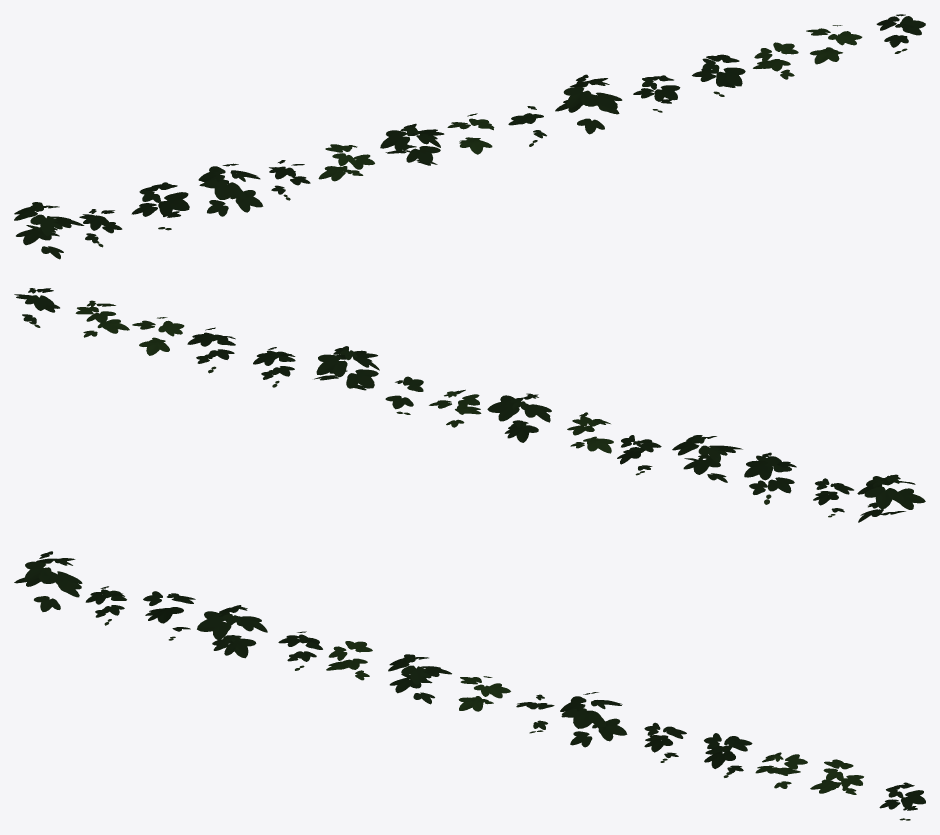
File: ROW_01_SEG0_foliage.dae
3 renders of one model, top to bottom at view 1: azimuth 30°, elevation 25°; view 2: azimuth 150°, elevation 25°; view 3: azimuth 330°, elevation 25°, orthographic.
Visible parts, largest first — view 1: ROW_01_SEG0_foliage; view 2: ROW_01_SEG0_foliage; view 3: ROW_01_SEG0_foliage.
Part boxes in pixels (box(x1,y1,x2,y2)): ROW_01_SEG0_foliage: box(14, 14, 925, 259); ROW_01_SEG0_foliage: box(14, 288, 925, 522); ROW_01_SEG0_foliage: box(14, 551, 925, 820).
Bounding box in the file's own units: 4.52 × 0.3363 × 0.2805.
